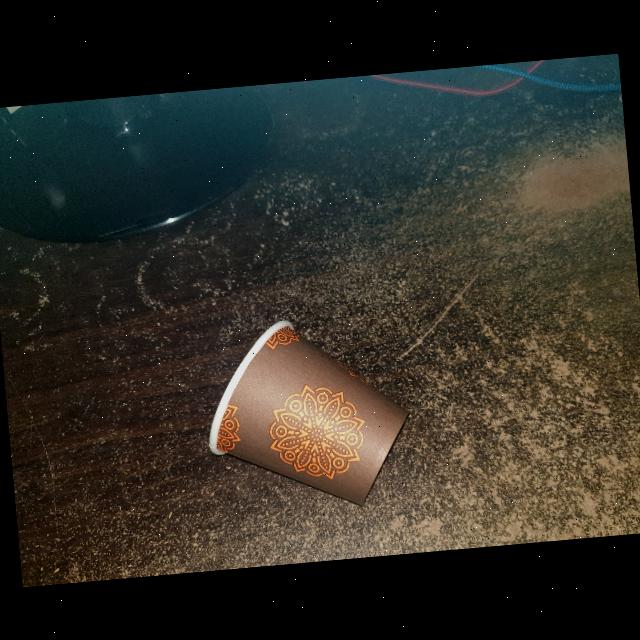trash: (195, 306, 426, 524)
